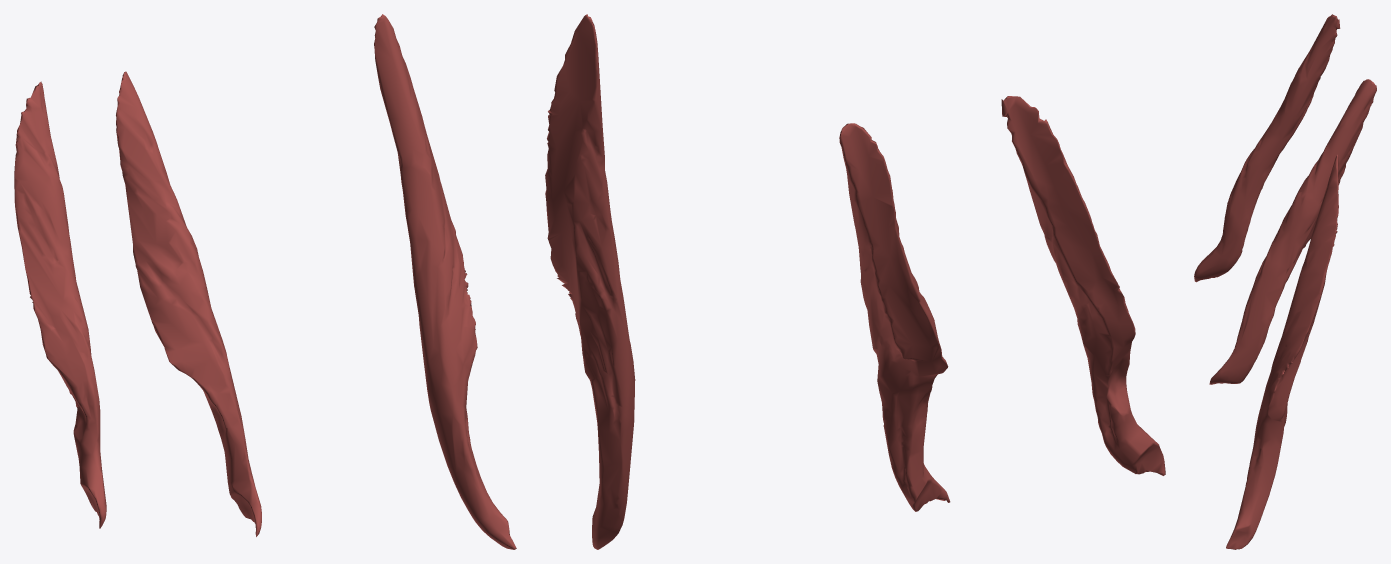
File: FMA42403.glb
3 renders of one model, left to right at view 1: azimuth 30°, elevation 25°; view 2: azimuth 150°, elevation 25°; view 3: azimuth 270°, elevation 25°, orthographic. The views are drawn at different scales.
Parts seen in each view (by area): view 1: FMA42403; view 2: FMA42403; view 3: FMA42403.
Boxes of the visible parts, left/top/right/bottom form: FMA42403: left=14, top=14, right=516, bottom=549; FMA42403: left=545, top=14, right=1165, bottom=549; FMA42403: left=1194, top=14, right=1376, bottom=549.
Bounding box in the file's own units: 0.0472 × 0.0512 × 0.0219.
